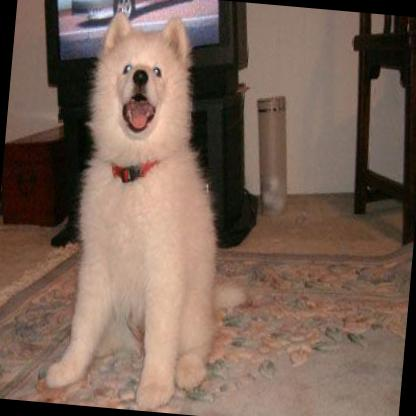Samoyed: (42, 4, 242, 411)
